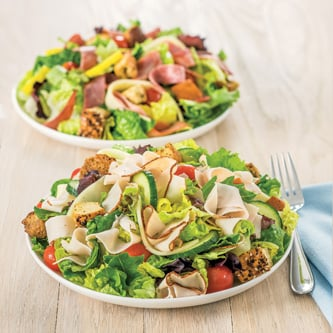burger: (270, 152, 316, 293), (270, 150, 305, 211)
curry: (35, 64, 90, 129)
sushi: (18, 136, 298, 309), (4, 20, 242, 152)
